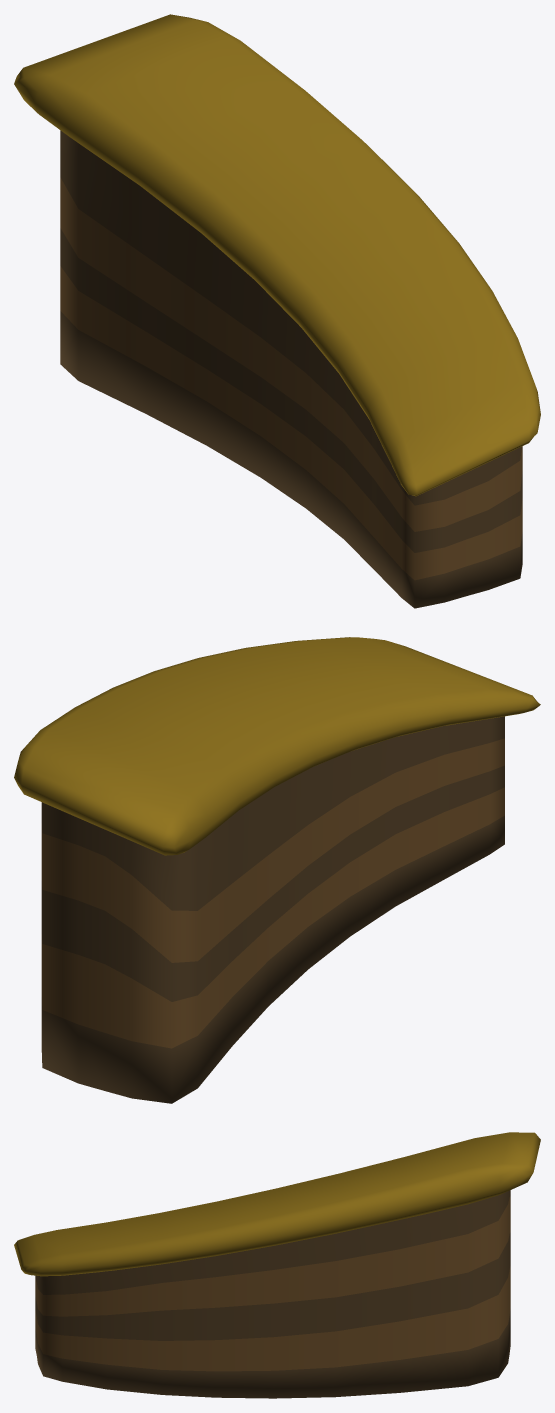
File: Plateforme_rectangle_montante_m.fbx
3 renders of one model, top to bottom at view 1: azimuth 30°, elevation 25°; view 2: azimuth 150°, elevation 25°; view 3: azimuth 270°, elevation 25°, orthographic. The views are drawn at different scales.
Visible parts, largest first — view 1: Cube.014; view 2: Cube.014; view 3: Cube.014.
Boxes of the visible parts, x1,y1,x2,y2 form: Cube.014: [14, 14, 540, 608]; Cube.014: [14, 637, 540, 1103]; Cube.014: [14, 1132, 540, 1398].
Bounding box in the file's own units: 659 × 912 × 1998.
